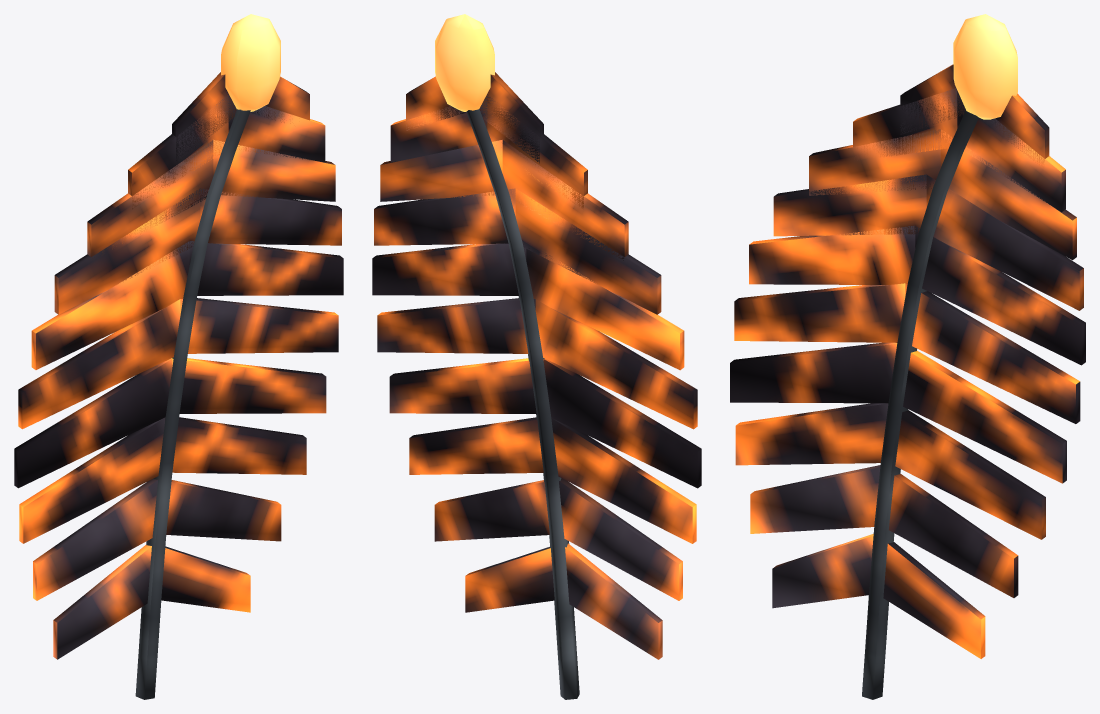
File: EmberDash.fbx
3 renders of one model, left to right at view 1: azimuth 30°, elevation 25°; view 2: azimuth 150°, elevation 25°; view 3: azimuth 330°, elevation 25°, orthographic. The views are drawn at different scales.
Parts seen in each view (by area): view 1: EmberDash; view 2: EmberDash; view 3: EmberDash.
Part boxes in pixels (bbox=[...]): EmberDash: bbox=[14, 14, 343, 699]; EmberDash: bbox=[372, 14, 701, 699]; EmberDash: bbox=[730, 14, 1085, 699].
Size of the model in its own units: 0.1852 by 0.3573 by 0.0205.
